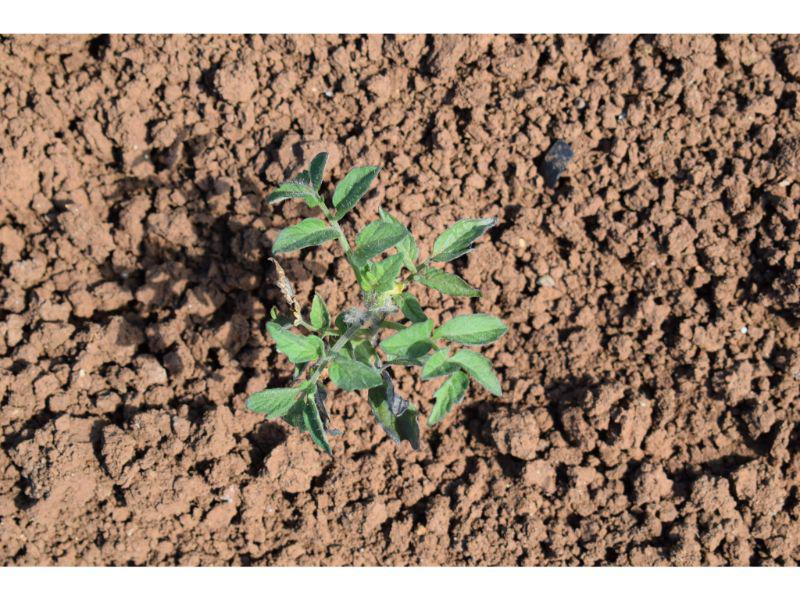tomato: (248, 148, 508, 457)
